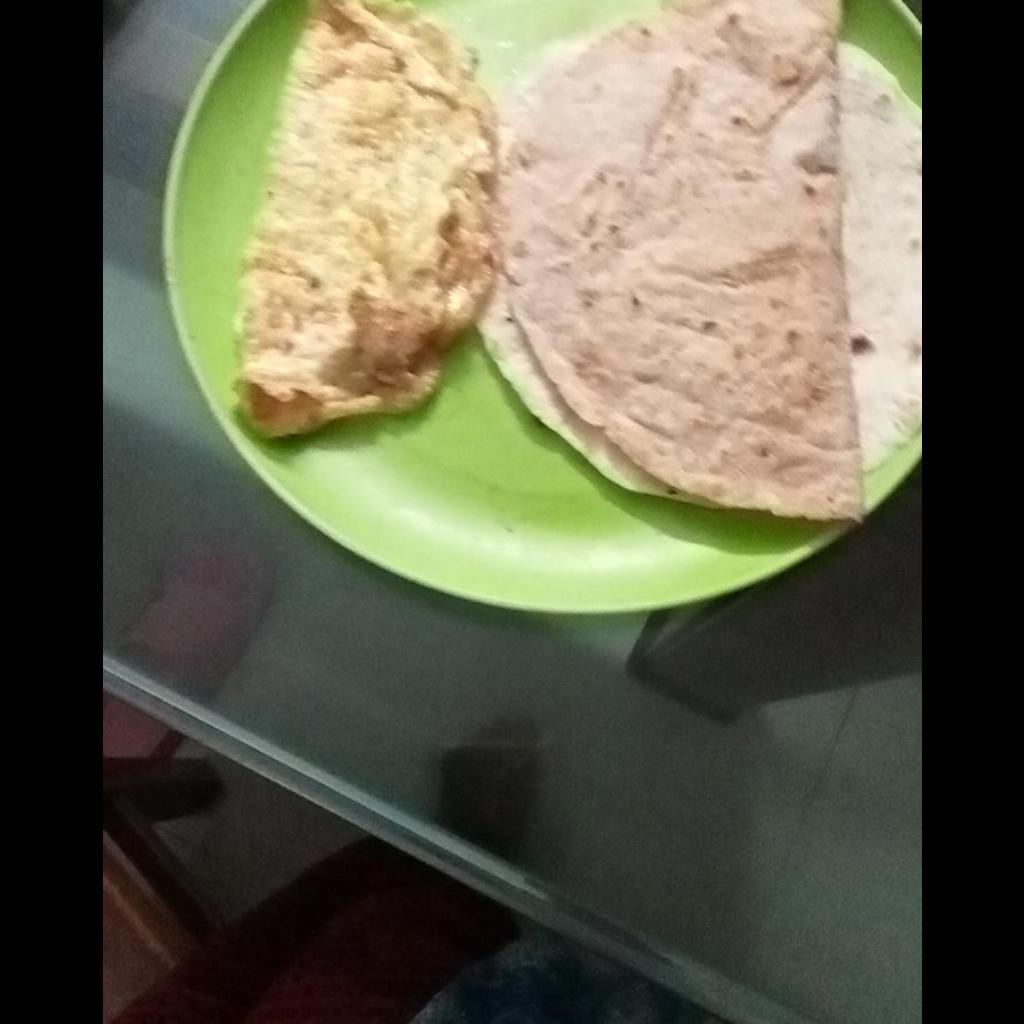egg-poached: (232, 0, 498, 444)
ruti: (483, 0, 920, 527)
